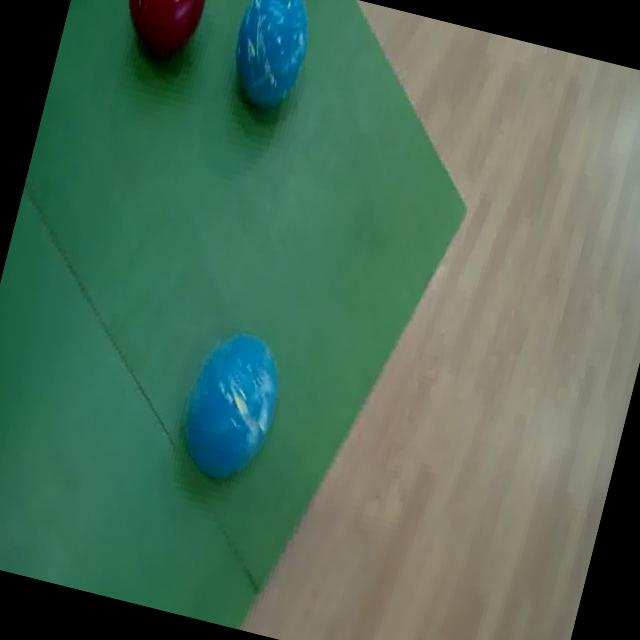blue_ball: (170, 318, 294, 488), (216, 0, 323, 127)
red_ball: (113, 0, 214, 68)
